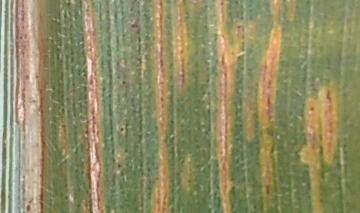tarspot: (127, 20, 144, 30), (234, 20, 246, 33), (308, 102, 317, 115), (23, 71, 33, 82), (250, 202, 261, 212), (167, 116, 177, 126), (117, 124, 126, 134), (25, 200, 32, 212), (120, 147, 132, 154), (119, 79, 129, 87), (33, 72, 40, 83)
